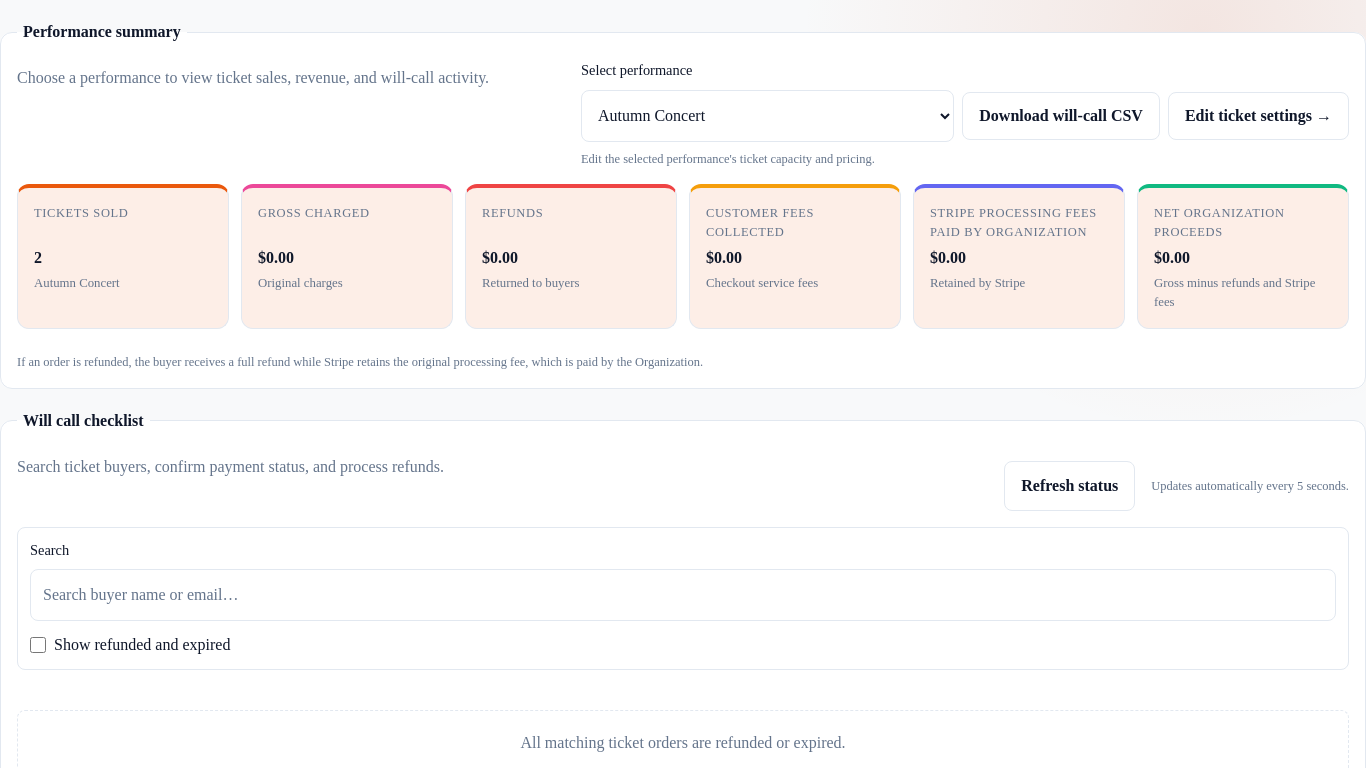
Test case: WillCallPanel refunded and expired orders › distinguishes a hidden expired purchase from a performance with no orders
The image size is (1366, 768).
Expected: the text "All matching ticket orders are refunded or expired." is shown, x1=520 y1=732 x2=846 y2=756
Step 1. Click the checkbox labelled "Show refunded and expired" → (38, 646), box x1=30 y1=638 x2=46 y2=654
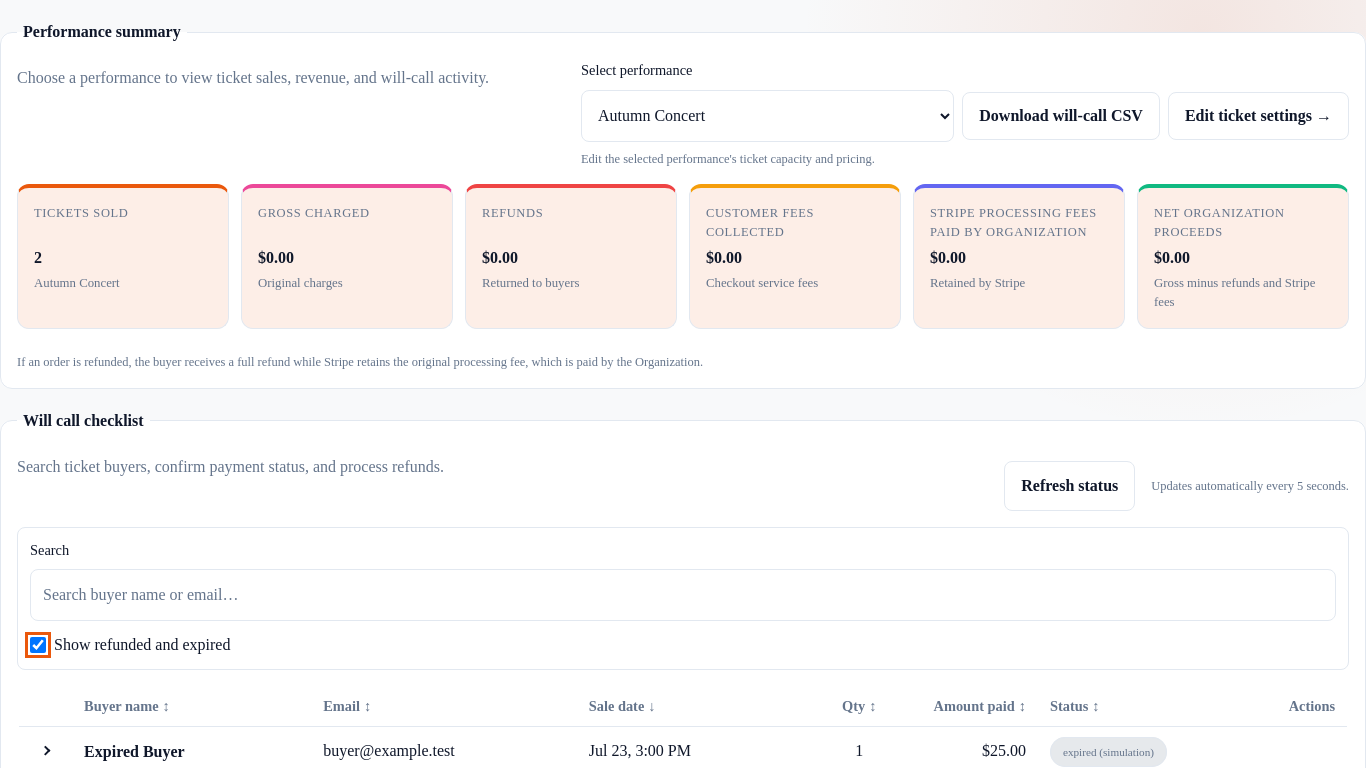
Expected: the text "Expired Buyer" is shown, x1=84 y1=740 x2=185 y2=764
Expected: the text "All matching ticket orders are refunded or expired." is gone
